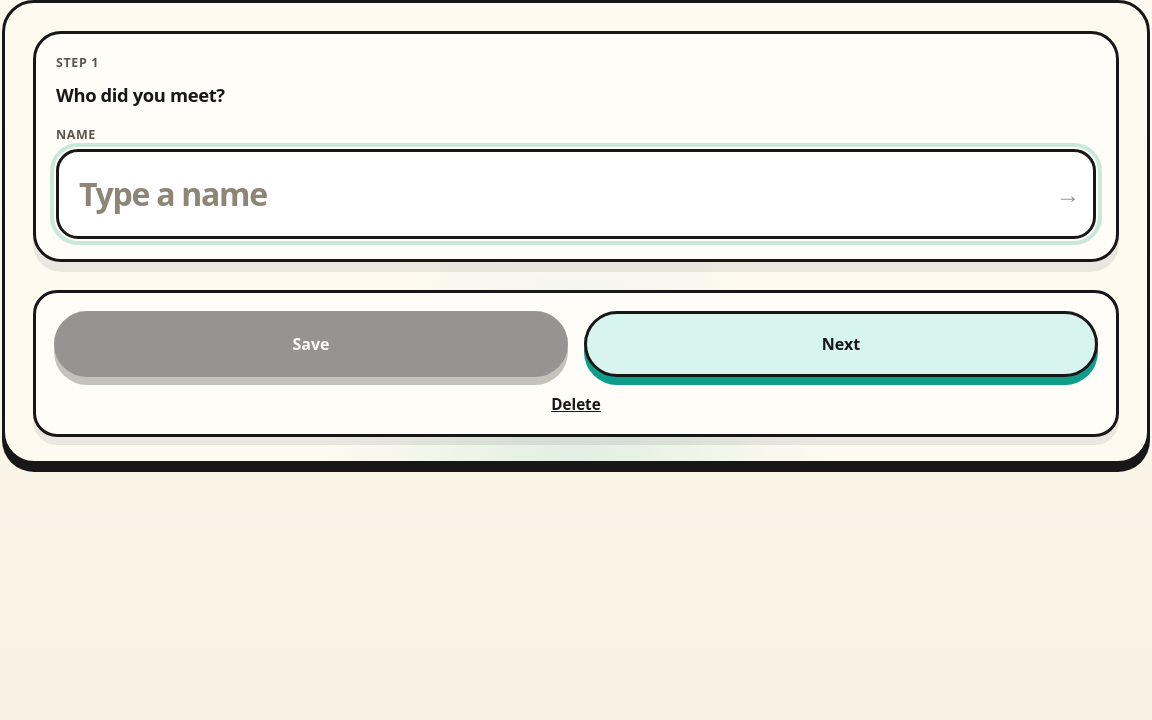
Test case: AddNameScreenV2 › reveals detail prompt choices when next confirms the name
This screenshot has width=1152, height=720.
Step 1. Type "Maya" into the field labelled "Name" → (576, 194), box [56, 149, 1096, 239]
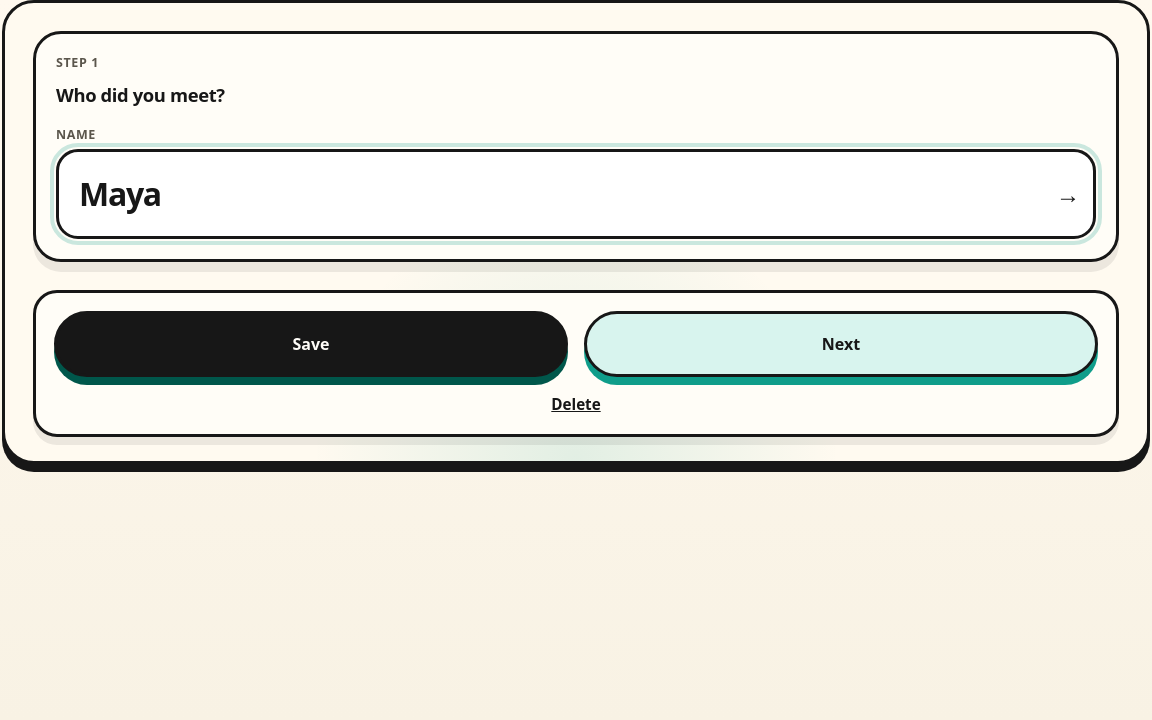
Expected: the button "Add memorable thing" is not shown
Step 2. Click the button "Next" → (841, 344), box [584, 311, 1098, 377]
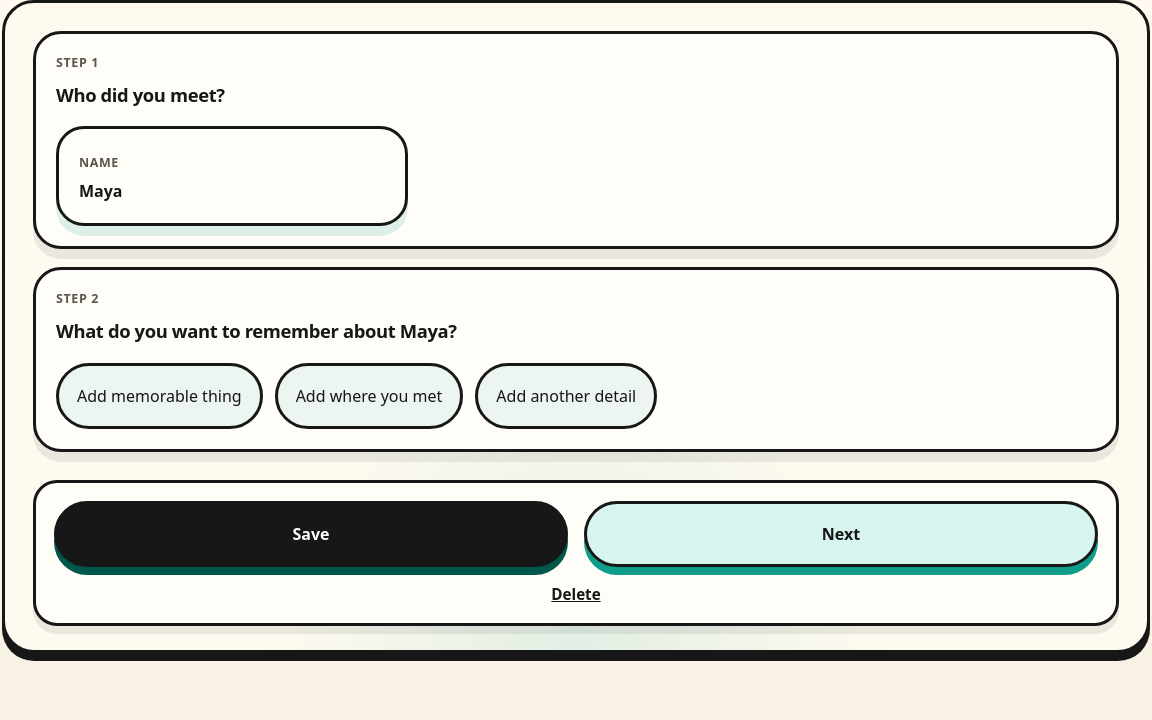
Now the button "Add memorable thing" is shown, box [56, 363, 263, 429]
Now the button "Add where you met" is shown, box [275, 363, 463, 429]
Now the button "Add another detail" is shown, box [475, 363, 657, 429]
